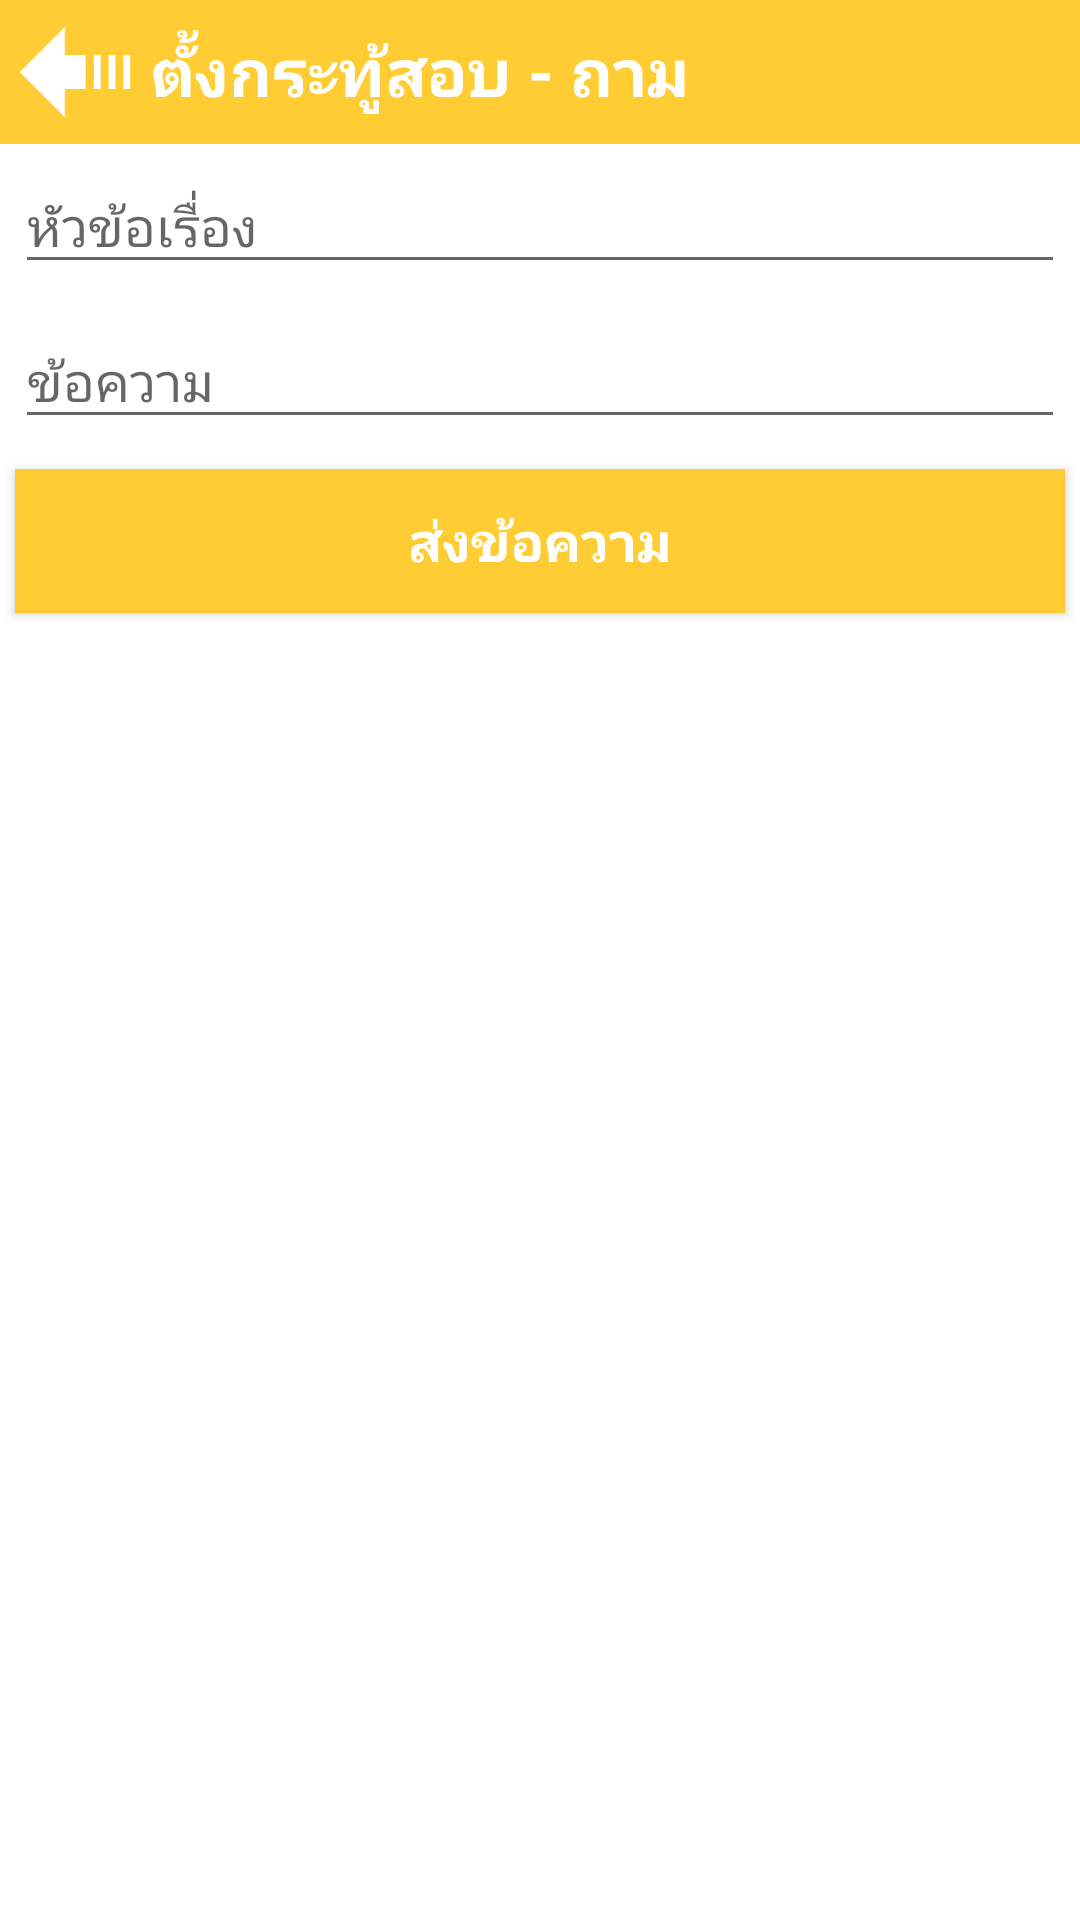

Where icons sit on this 1080px×1920px app screen, as (x1, y1, x2, y2):
back: (20, 27, 131, 117)
